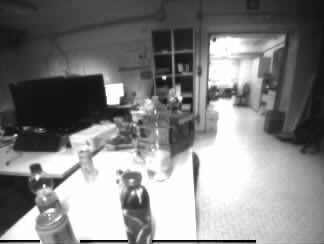Bottle: (119, 173, 153, 244), (145, 96, 171, 180), (30, 165, 59, 211)
Tin can: (37, 209, 77, 244), (77, 147, 96, 182)
